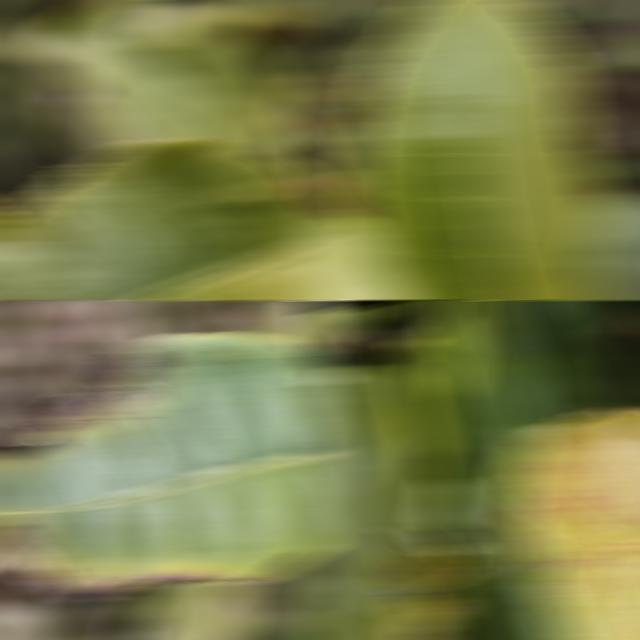Leaf: (0, 332, 330, 600), (345, 0, 607, 300), (0, 138, 330, 300), (37, 0, 295, 154), (435, 300, 557, 554), (512, 407, 640, 640), (310, 365, 409, 640), (377, 326, 456, 540), (479, 513, 586, 640), (513, 300, 628, 397), (104, 579, 247, 640), (386, 588, 470, 640), (0, 315, 28, 352)
